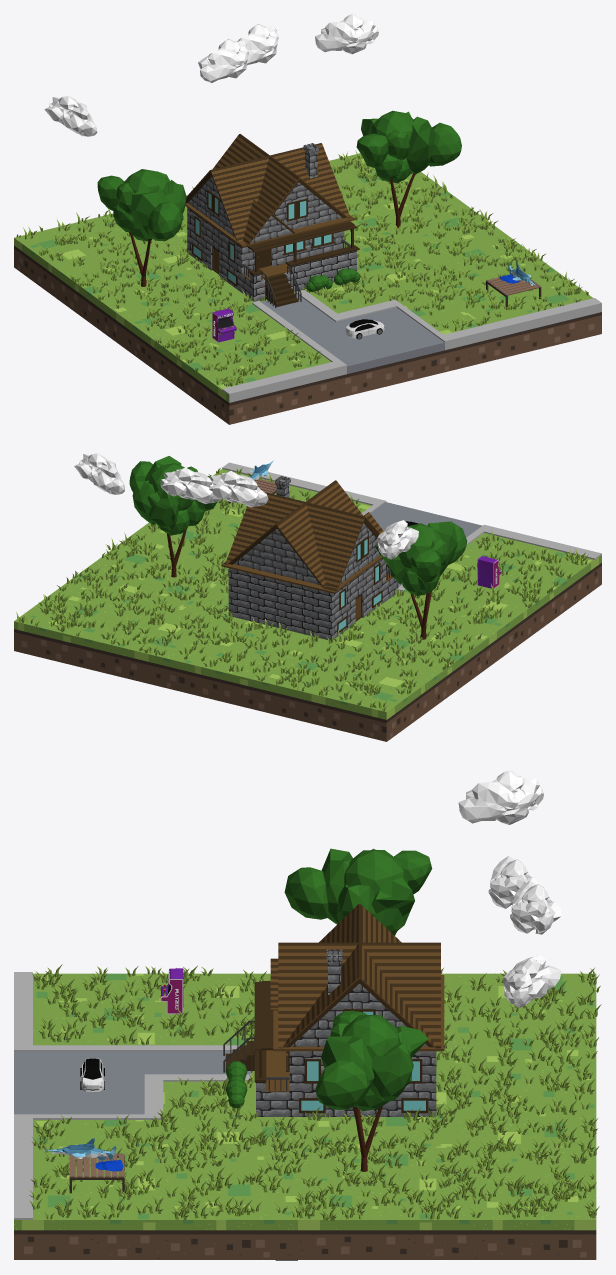
3 renders of one model, top to bottom at view 1: azimuth 30°, elevation 25°; view 2: azimuth 150°, elevation 25°; view 3: azimuth 270°, elevation 25°, orthographic. The views are drawn at different scales.
Parts seen in each view (by area): view 1: Cube.006, Cube.586, Circle.012_Grass_0.192, Cube.007, tree, tree.001, OBJRANDOM_ARCADE, Cube.009, VEHICLES_TESLA; view 2: Cube.006, Cube.586, Circle.012_Grass_0.192, Cube.007, tree.001, tree, OBJRANDOM_ARCADE; view 3: Cube.006, Circle.012_Grass_0.192, Cube.586, tree, Cube.007, tree.001, Cube.009, ANIMAL_PEZ_ESPADA, OBJRANDOM_ARCADE, VEHICLES_TESLA.
Part boxes in pixels (x1=…): Cube.006: x1=14, y1=153, x2=601, y2=424; Cube.586: x1=185, y1=134, x2=359, y2=307; Circle.012_Grass_0.192: x1=16, y1=150, x2=588, y2=386; Cube.007: x1=44, y1=14, x2=378, y2=136; tree: x1=356, y1=110, x2=461, y2=228; tree.001: x1=97, y1=169, x2=186, y2=286; OBJRANDOM_ARCADE: x1=212, y1=308, x2=236, y2=342; Cube.009: x1=486, y1=275, x2=541, y2=306; VEHICLES_TESLA: x1=345, y1=319, x2=384, y2=339; Cube.006: x1=14, y1=462, x2=601, y2=741; Cube.586: x1=221, y1=476, x2=398, y2=640; Circle.012_Grass_0.192: x1=16, y1=468, x2=588, y2=711; Cube.007: x1=74, y1=453, x2=418, y2=559; tree.001: x1=375, y1=521, x2=467, y2=639; tree: x1=129, y1=456, x2=216, y2=577; OBJRANDOM_ARCADE: x1=477, y1=555, x2=501, y2=588; Cube.006: x1=14, y1=972, x2=596, y2=1259; Circle.012_Grass_0.192: x1=29, y1=964, x2=601, y2=1221; Cube.586: x1=223, y1=904, x2=444, y2=1116; tree: x1=315, y1=1010, x2=428, y2=1171; Cube.007: x1=458, y1=770, x2=561, y2=1007; tree.001: x1=284, y1=848, x2=432, y2=935; Cube.009: x1=69, y1=1153, x2=124, y2=1193; ANIMAL_PEZ_ESPADA: x1=43, y1=1138, x2=123, y2=1171; OBJRANDOM_ARCADE: x1=160, y1=968, x2=183, y2=1014; VEHICLES_TESLA: x1=80, y1=1058, x2=104, y2=1091.
Bounding box in the file's own units: 4071 × 2184 × 4040.
Materials: 37 (4 with a texture image).
